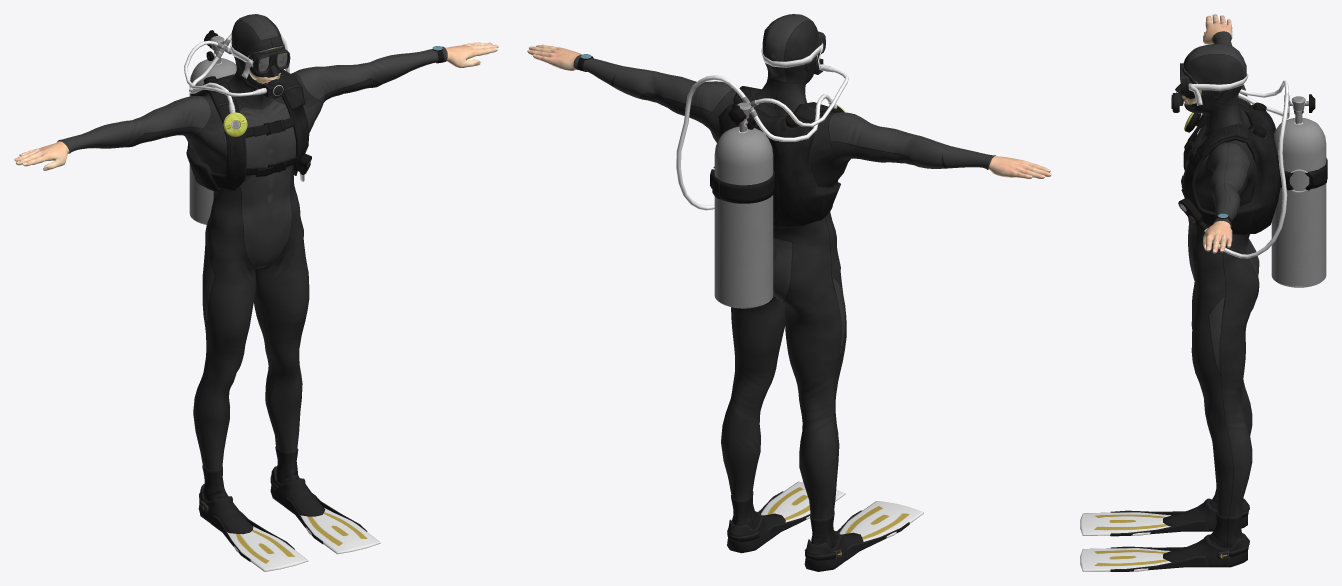
File: scuba-diver.glb
3 views of the same model, side by side, from view 1: azimuth 30°, elevation 25°; view 2: azimuth 150°, elevation 25°; view 3: azimuth 270°, elevation 25° (orthographic). The views are drawn at different scales.
Parts seen in each view (by area): view 1: Object_2, Object_4, Object_5, Object_6, Object_7, Object_9; view 2: Object_2, Object_6, Object_4, Object_5, Object_9; view 3: Object_2, Object_6, Object_4, Object_5, Object_9, Object_7.
Part boxes in pixels (x1,y1,x2,y2): Object_2: [14, 14, 498, 470]; Object_4: [198, 446, 380, 571]; Object_5: [186, 69, 309, 192]; Object_6: [189, 30, 444, 224]; Object_7: [230, 42, 290, 78]; Object_9: [184, 31, 304, 181]; Object_2: [527, 14, 1051, 519]; Object_6: [577, 54, 845, 308]; Object_4: [727, 481, 923, 571]; Object_5: [710, 86, 840, 227]; Object_9: [676, 68, 848, 210]; Object_2: [1182, 14, 1259, 517]; Object_6: [1178, 94, 1326, 287]; Object_4: [1080, 488, 1249, 571]; Object_5: [1181, 98, 1327, 235]; Object_9: [1204, 80, 1289, 258]; Object_7: [1175, 62, 1248, 105].
Bounding box in the file's own units: 1.79 × 1.75 × 0.7872.
Materials: 5 (3 with a texture image).
